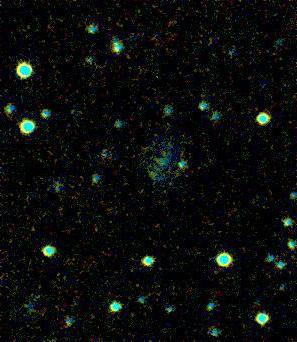star: (136, 161, 166, 191)
